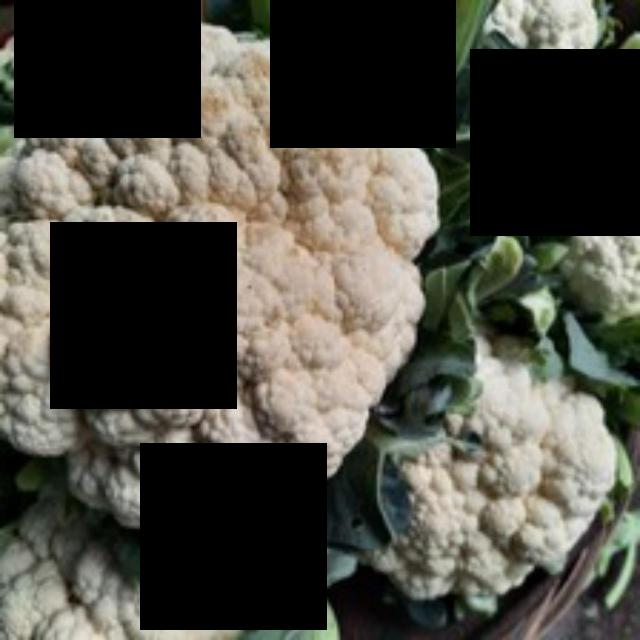cauliflower: (0, 0, 438, 558), (401, 348, 608, 616)
